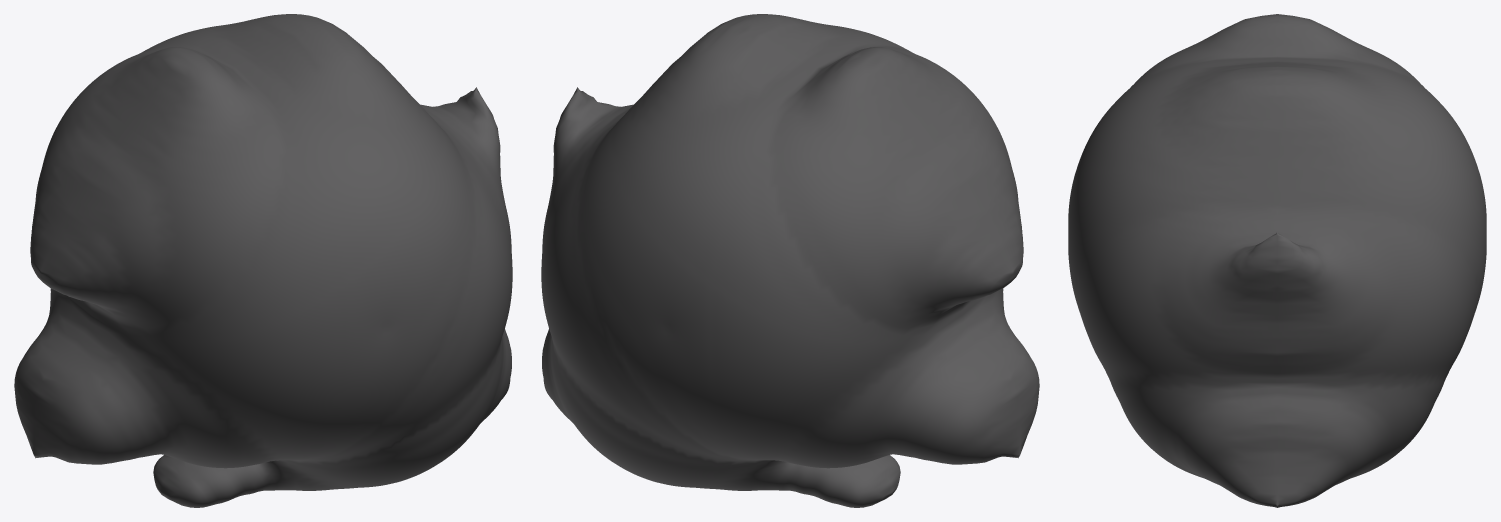
File: Asteroid_test.fbx
The picture shows the model from 3 angles, left to right: view 1: azimuth 30°, elevation 25°; view 2: azimuth 150°, elevation 25°; view 3: azimuth 270°, elevation 25°; orthographic projection. The views are drawn at different scales.
Parts seen in each view (by area): view 1: root; view 2: root; view 3: root.
Boxes of the visible parts, x1=… form: root: x1=14, y1=14, x2=512, y2=507; root: x1=541, y1=14, x2=1039, y2=507; root: x1=1068, y1=14, x2=1486, y2=507.
Size of the model in its own units: 0.2494 by 0.2294 by 0.216.
Materials: 1 (1 with a texture image).
